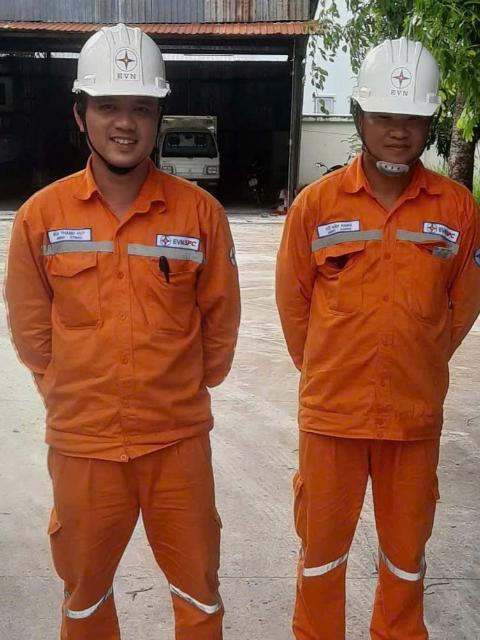helmet: (58, 10, 190, 107), (330, 29, 450, 124)
